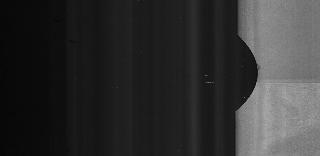welding line: (254, 80, 320, 88)
